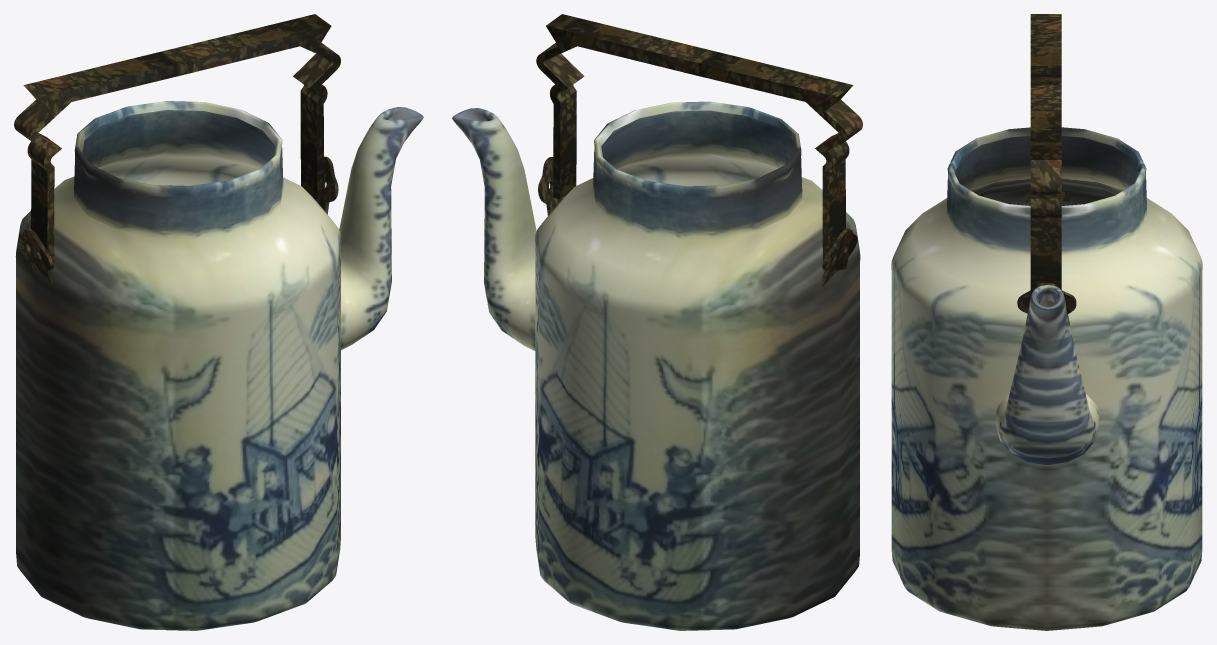
Rendered from tea_pot.glb.
3 views of the same model, side by side, from view 1: azimuth 30°, elevation 25°; view 2: azimuth 150°, elevation 25°; view 3: azimuth 270°, elevation 25° (orthographic). The views are drawn at different scales.
Visible parts, largest first — view 1: Teapot01, Line04; view 2: Teapot01, Line04; view 3: Teapot01, Line04.
Boxes of the visible parts, x1,y1,x2,y2 form: Teapot01: [15, 101, 423, 630]; Line04: [14, 14, 340, 284]; Teapot01: [452, 101, 860, 630]; Line04: [536, 14, 862, 286]; Teapot01: [891, 127, 1202, 630]; Line04: [1017, 14, 1076, 325].
Size of the model in its own units: 2.04 by 2.52 by 1.44.
2 materials, 2 textured.
